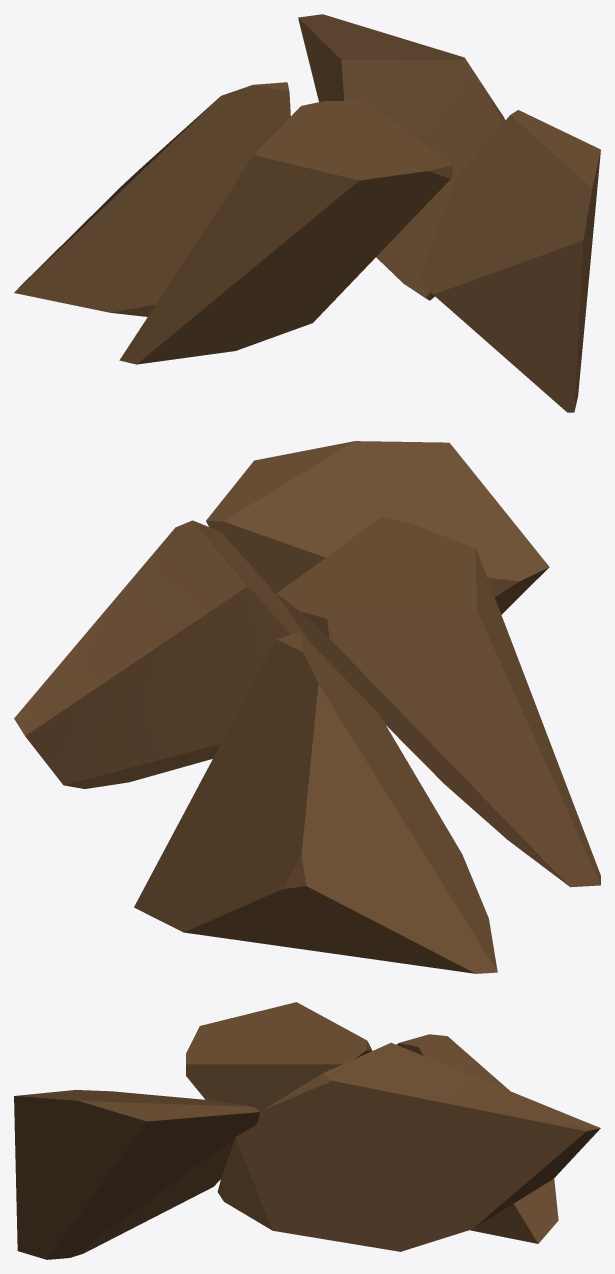
Rendered from SM_stones_debris_02.fbx.
3 views of the same model, one above another, from view 1: azimuth 30°, elevation 25°; view 2: azimuth 150°, elevation 25°; view 3: azimuth 270°, elevation 25° (orthographic). The views are drawn at different scales.
Visible parts, largest first — view 1: stones_debris_02; view 2: stones_debris_02; view 3: stones_debris_02.
Boxes of the visible parts, <box> form: stones_debris_02: <box>14,14,600,412</box>; stones_debris_02: <box>14,441,600,973</box>; stones_debris_02: <box>14,1002,600,1259</box>.
Bounding box in the file's own units: 150 × 79.26 × 210.
